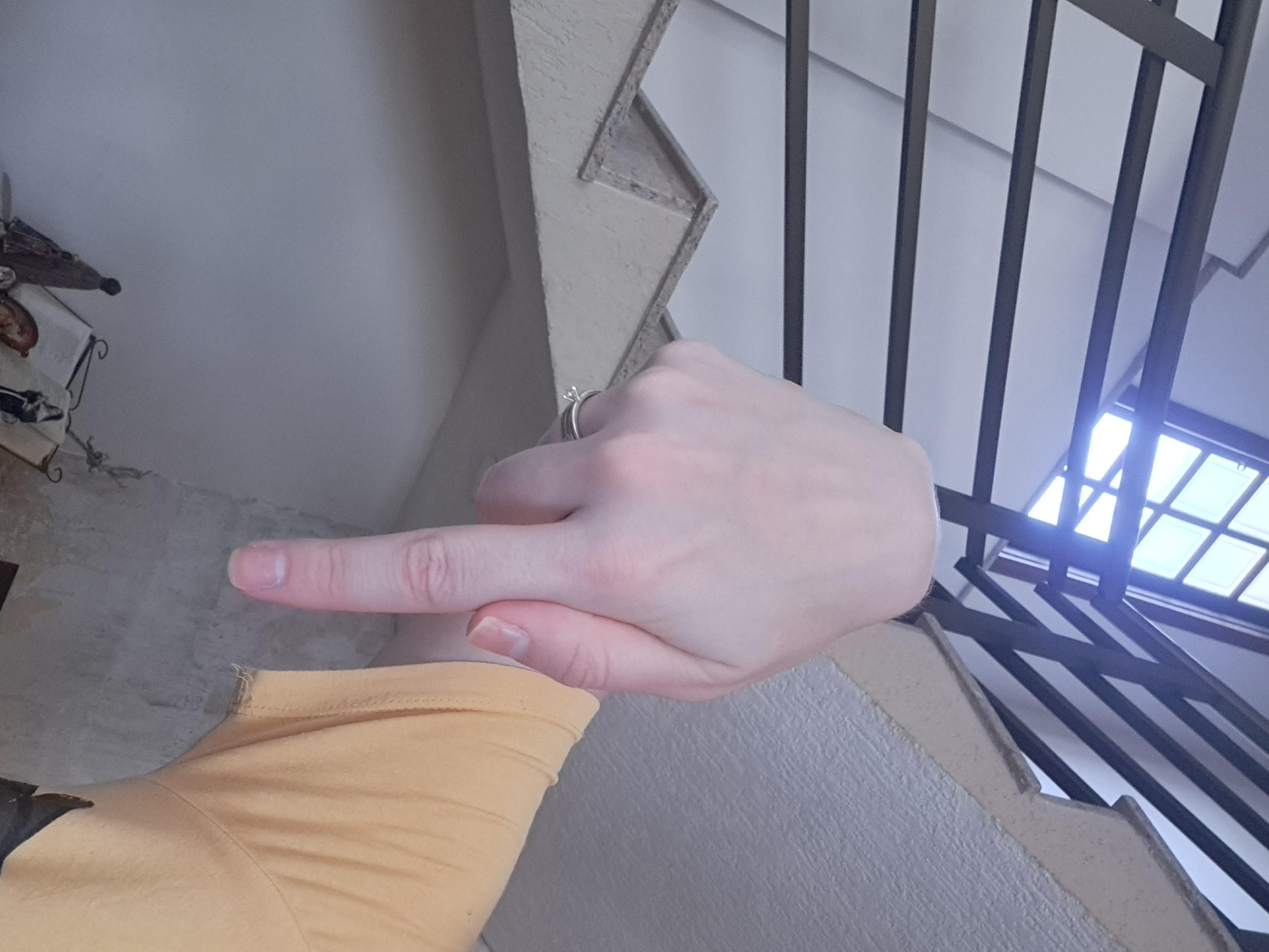Q: (482, 227, 938, 799)
